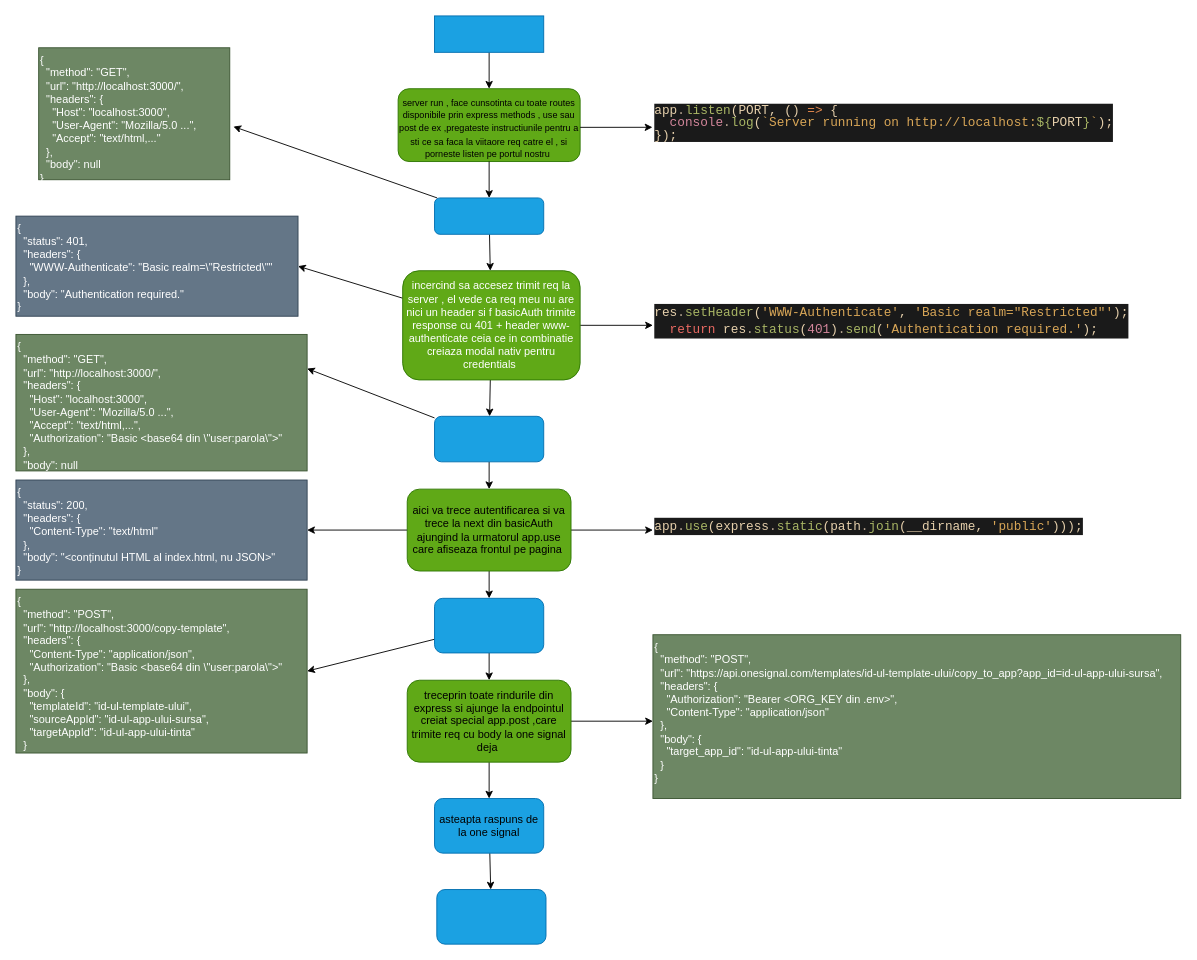
Image size: 1197x960. Some labels were removed from this diagram. The centre of each missing label's shape, as x and y in pixels:
"inseram datele in formular si apasam send" belongs at (x=489, y=625).
"inseram datele si retrimitem alt req cu date pentru auth" belongs at (x=489, y=438).
"localhost:PORT" belongs at (x=489, y=215).
"npm start" belongs at (x=489, y=33).
"send the result to front succes or err" belongs at (x=491, y=916).
